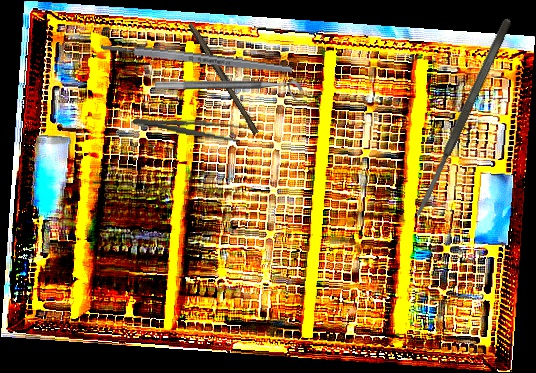Dressing Forceps: (132, 111, 250, 144)
Fixation Ring: (155, 80, 303, 102)
Scalpel Handle: (185, 21, 263, 135), (100, 41, 293, 76)
Spatula Surgical: (410, 16, 515, 220)
